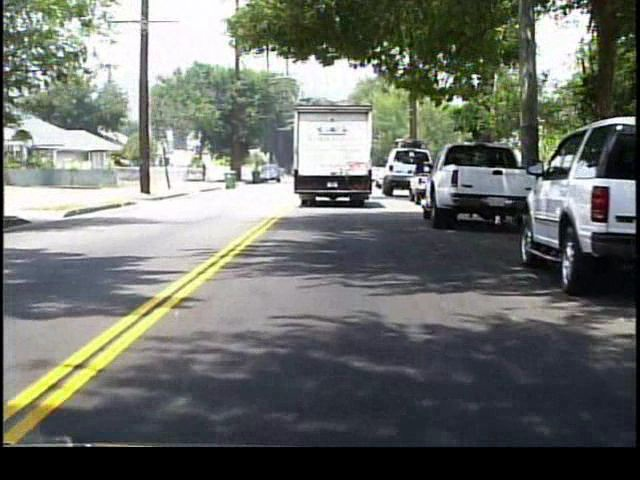person: (201, 162, 210, 185)
